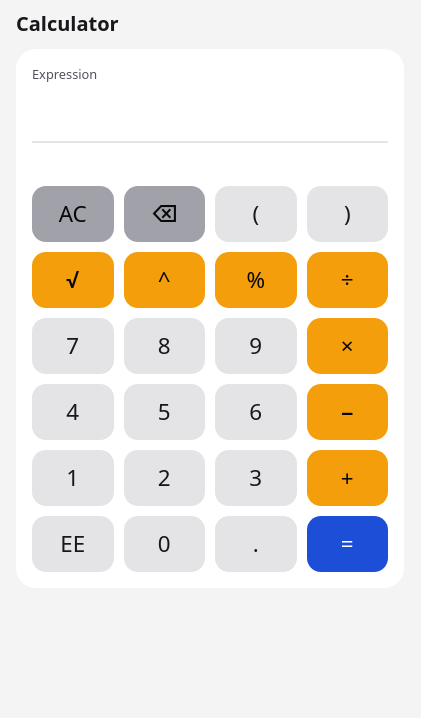
Test: keyboard › continues from the full result when an operator is typed
Expected: the button named "equals" is shown, [306,516,388,572]
In the field labelled "Expression": (210, 115) [32,87,388,143], type "1/3"
Then press Enter
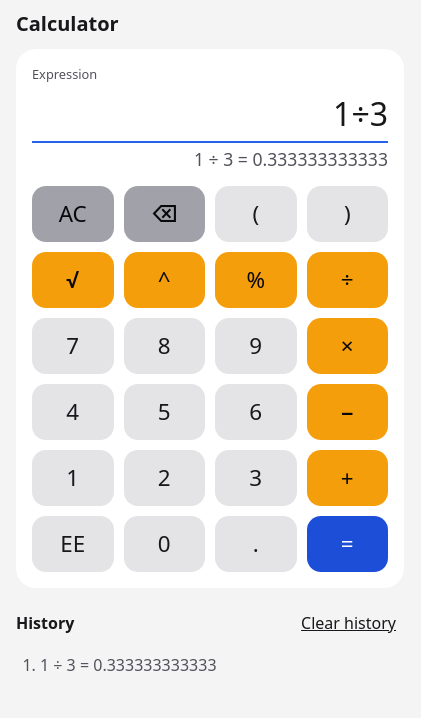
Expected: the message shows "= 0.333333333333", [194,147,388,171]
In the field labelled "Expression": (210, 115) [32,87,388,143], type "*3"
Then press Enter
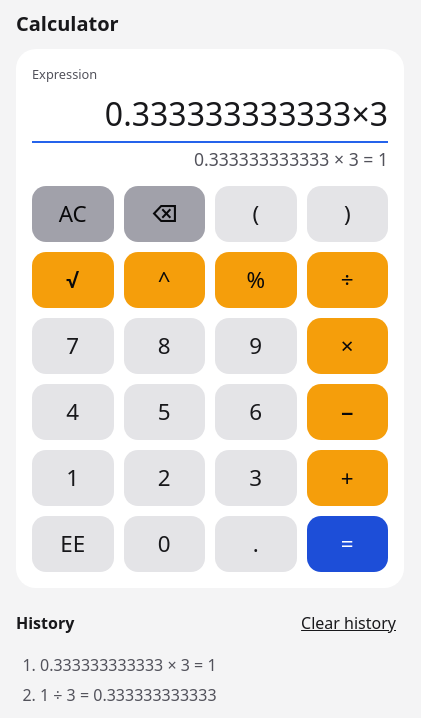
Expected: the message reads "0.333333333333 × 3 = 1", [194,147,388,171]
